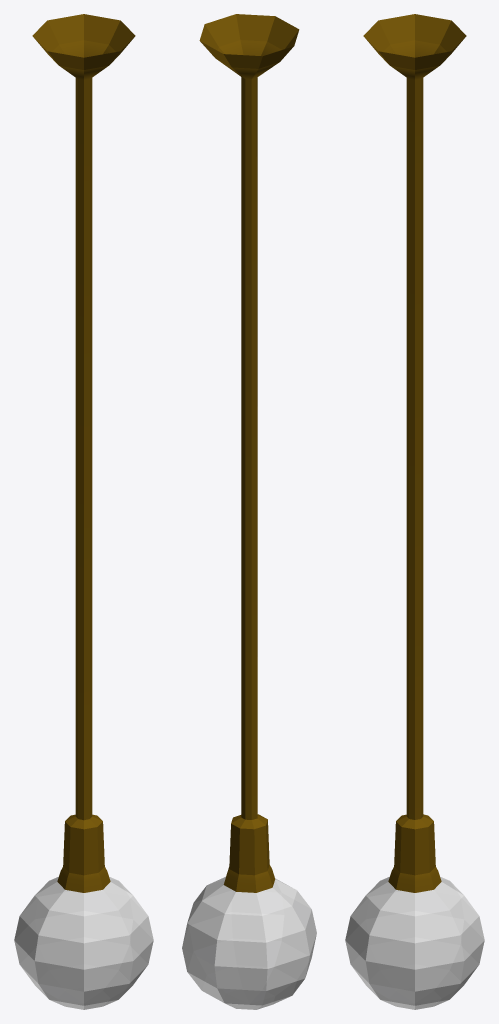
File: Ball_light_brown.fbx
The picture shows the model from 3 angles, left to right: view 1: azimuth 90°, elevation 25°; view 2: azimuth 150°, elevation 25°; view 3: azimuth 270°, elevation 25°; orthographic projection.
Visible parts, largest first — view 1: Ball_Light_brown; view 2: Ball_Light_brown; view 3: Ball_Light_brown.
Boxes of the visible parts, x1,y1,x2,y2 form: Ball_Light_brown: (14, 14, 153, 1009); Ball_Light_brown: (182, 14, 316, 1009); Ball_Light_brown: (345, 14, 484, 1009).
Bounding box in the file's own units: 0.1609 × 1.23 × 0.1609.
